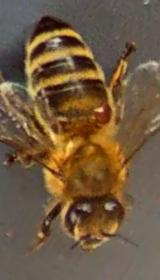varroa_mite: (80, 94, 124, 130)
